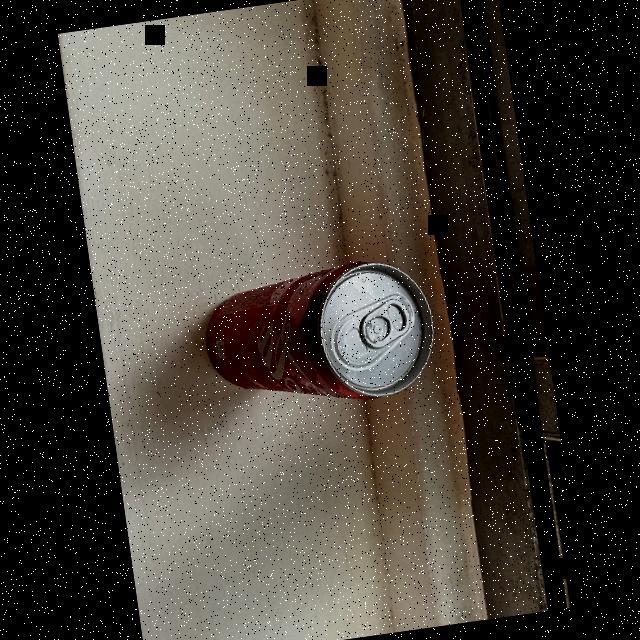can: (194, 250, 443, 423)
